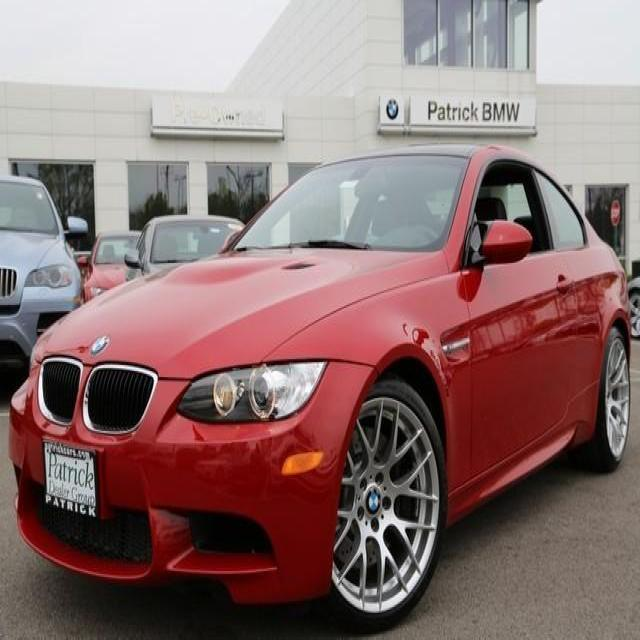Car: (14, 129, 618, 630)
